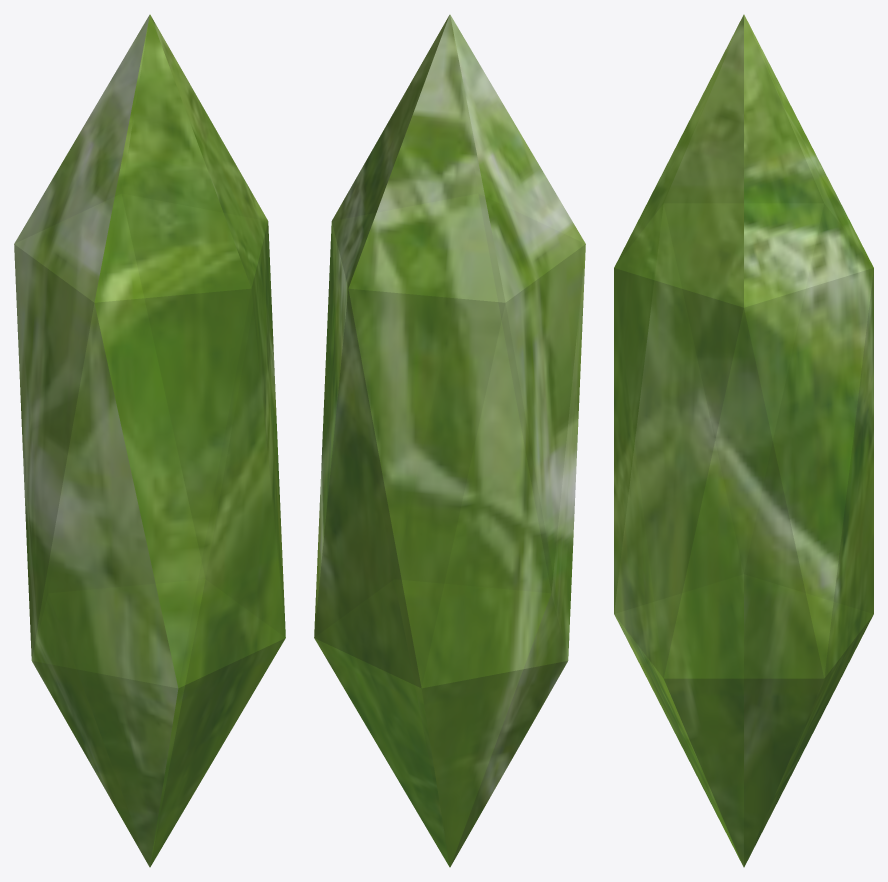
File: secureZoneActive.obj
3 views of the same model, side by side, from view 1: azimuth 30°, elevation 25°; view 2: azimuth 150°, elevation 25°; view 3: azimuth 270°, elevation 25° (orthographic).
Parts seen in each view (by area): view 1: Crystal-Active_Crystal_Rune_Cube.008; view 2: Crystal-Active_Crystal_Rune_Cube.008; view 3: Crystal-Active_Crystal_Rune_Cube.008.
Boxes of the visible parts, bbox=[...] form: Crystal-Active_Crystal_Rune_Cube.008: bbox=[14, 14, 285, 867]; Crystal-Active_Crystal_Rune_Cube.008: bbox=[314, 14, 585, 867]; Crystal-Active_Crystal_Rune_Cube.008: bbox=[614, 14, 873, 867].
Size of what is drawn, in the model's own units: 0.0616 by 0.2124 by 0.0586.
1 material, 1 textured.
